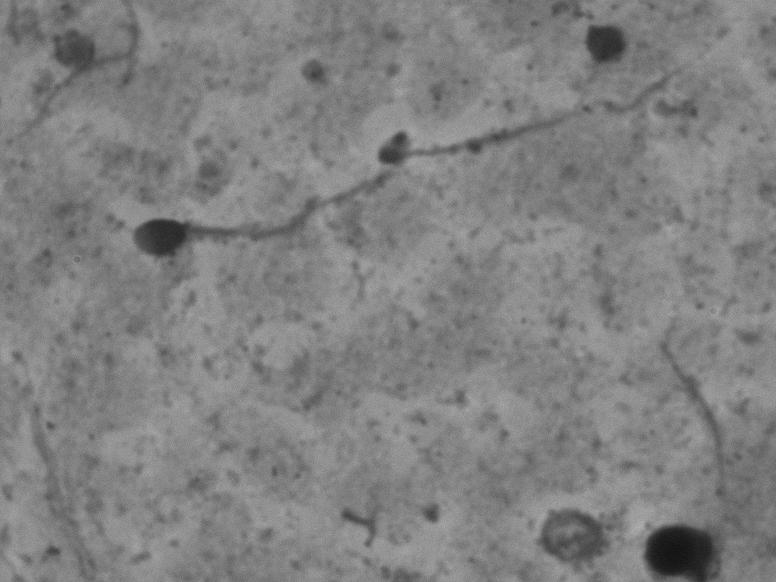Normal: (117, 31, 721, 270)
